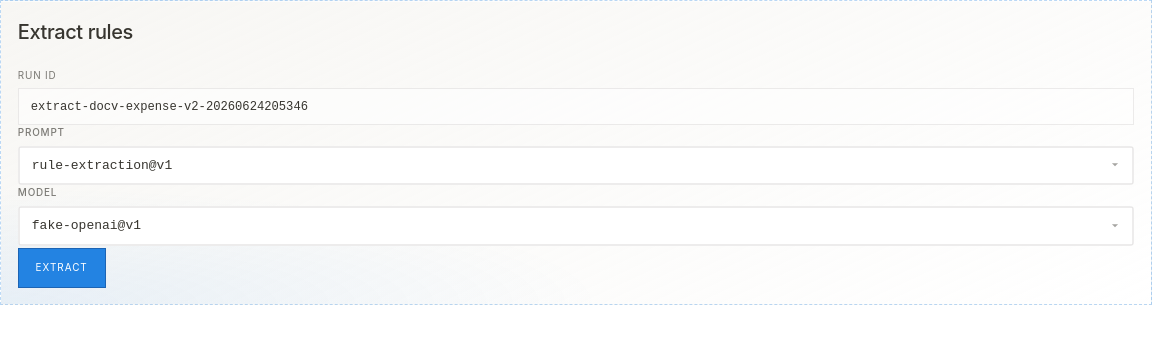
TriggerExtractionRun › surfaces actionable validation failures without stack traces
The image size is (1152, 358).
Expected: the dropdown labelled "Prompt" is shown, [19,146,1133,184]
Click the button "Extract": (62, 268) [18,248,106,288]
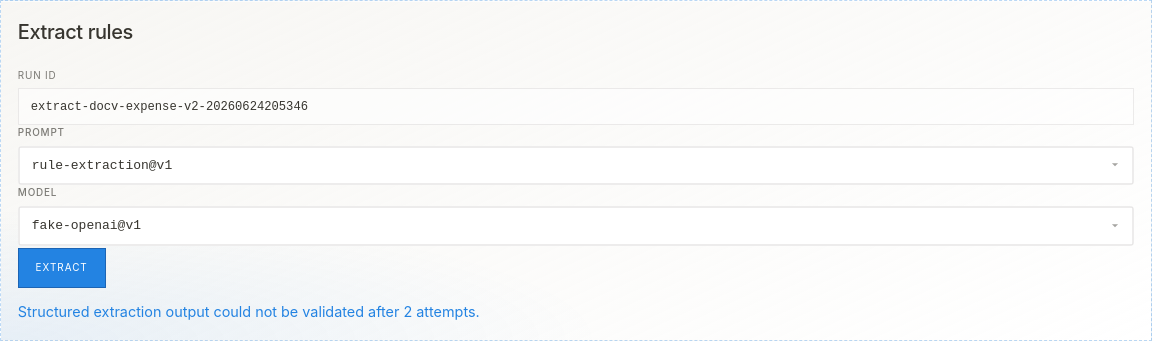
Now the text "Structured extraction output could not be validated after 2 attempts." is shown, box [18,303,480,320]
